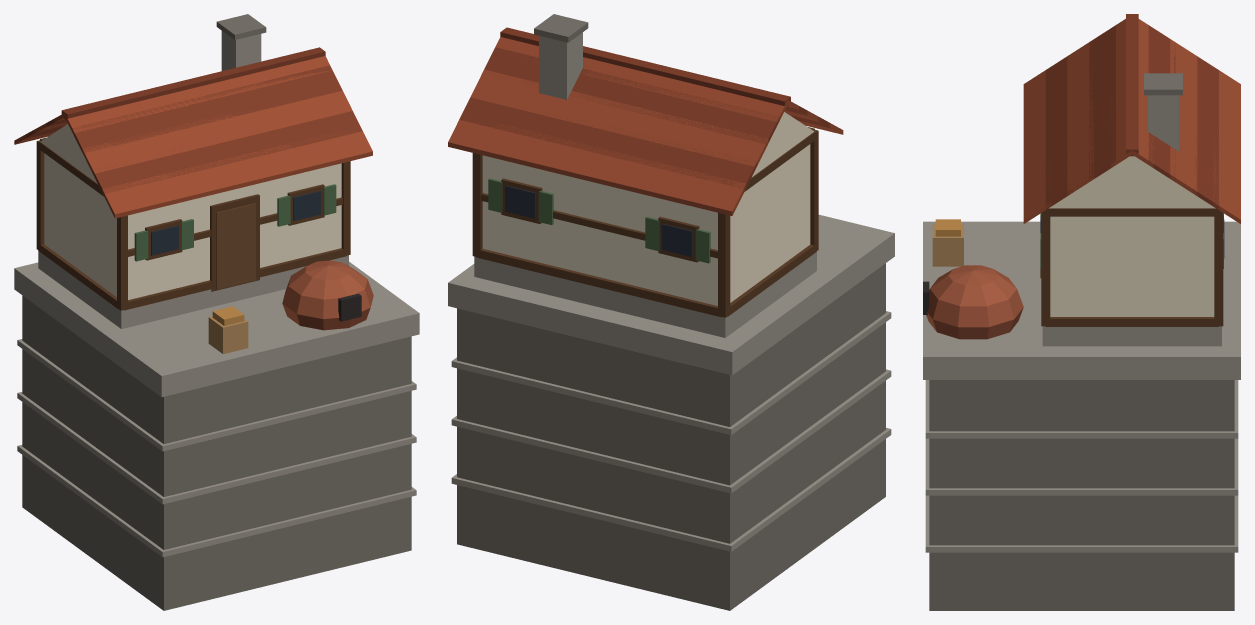
Rendered from bakery.glb.
3 views of the same model, side by side, from view 1: azimuth 30°, elevation 25°; view 2: azimuth 150°, elevation 25°; view 3: azimuth 270°, elevation 25° (orthographic). The views are drawn at different scales.
Parts seen in each view (by area): view 1: bakery; view 2: bakery; view 3: bakery.
Boxes of the visible parts, x1,y1,x2,y2 form: bakery: (14, 14, 419, 610); bakery: (448, 14, 894, 610); bakery: (923, 14, 1240, 610).
Size of the model in its own units: 5.1 by 8.72 by 5.05.
